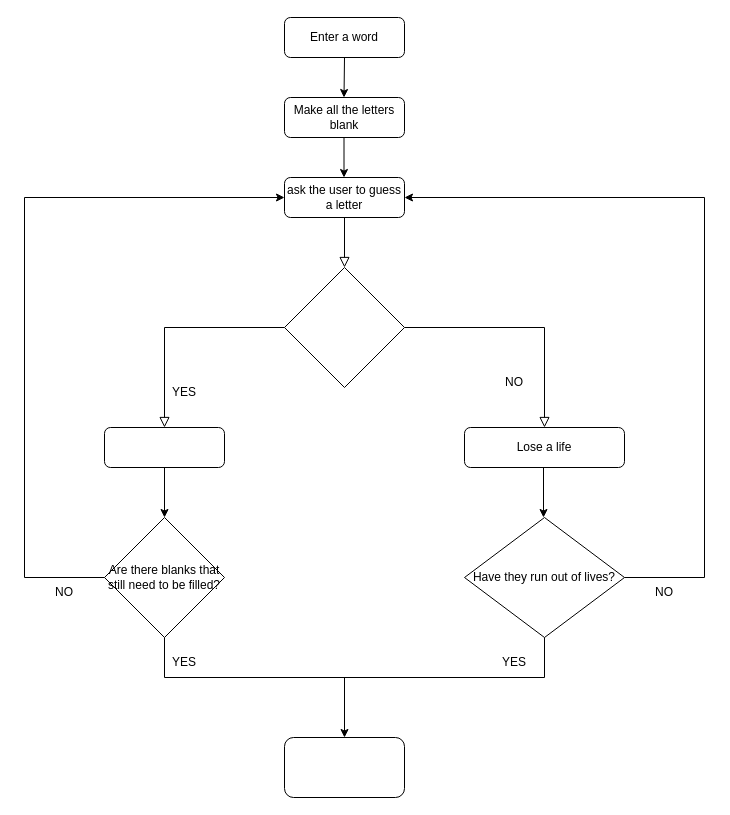
Image size: 730x815. Some labels were removed from this diagram. The box of each missing label's shape, as (x1, y1, x2, y2) in pixels:
GAME OVER: (284, 736, 404, 798)
If the letters match any of those of the word: (284, 266, 404, 388)
Replace the blank with the letter: (104, 426, 224, 468)
